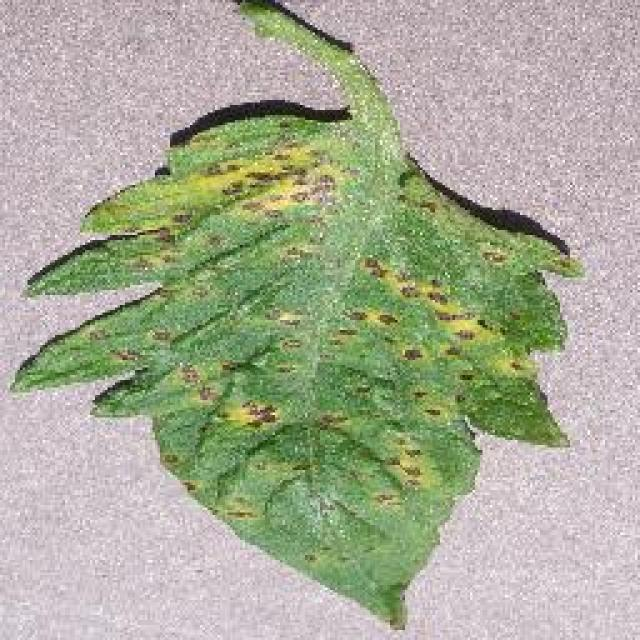Tomato___Septoria_leaf_spot: (15, 2, 578, 622)
